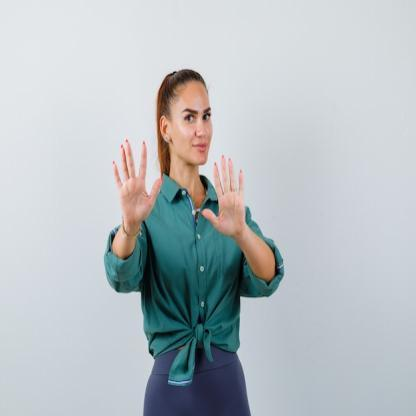stop: (108, 132, 166, 229), (198, 150, 249, 242)
